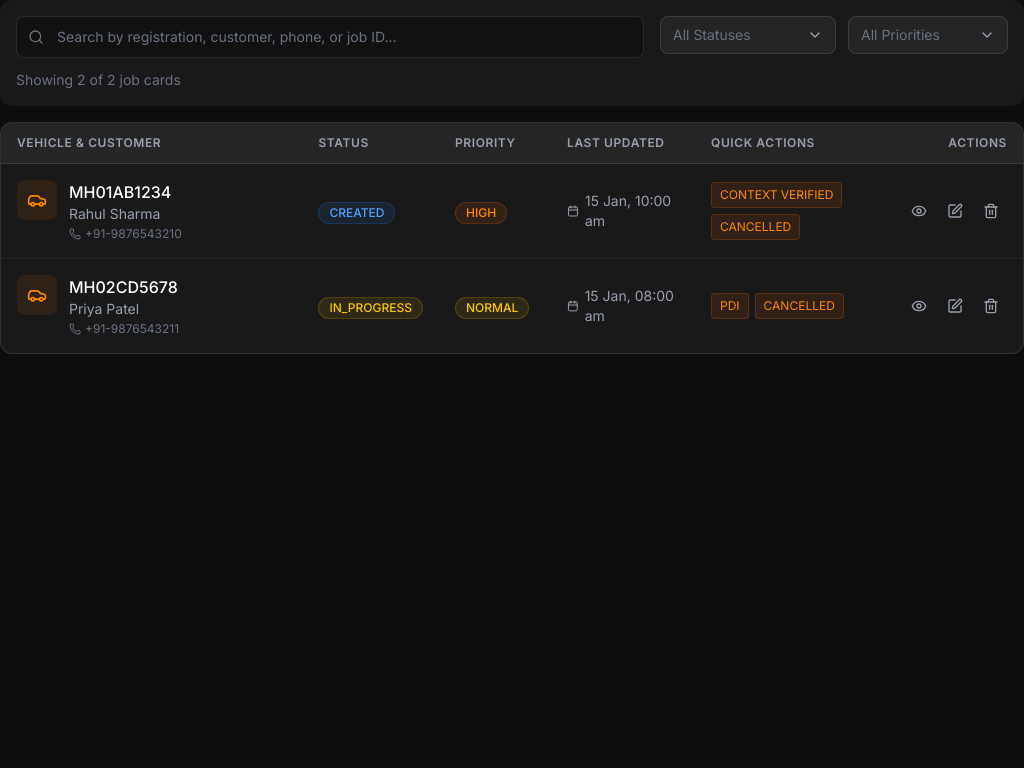
it: JobCardTable Component › calls onDelete when delete is confirmed
Later steps or results of the test are not shown.
# Click the delete icon button (first row)
Click the button titled "delete" in the row of "MH01AB1234" at (991, 211), box [975, 195, 1007, 227]
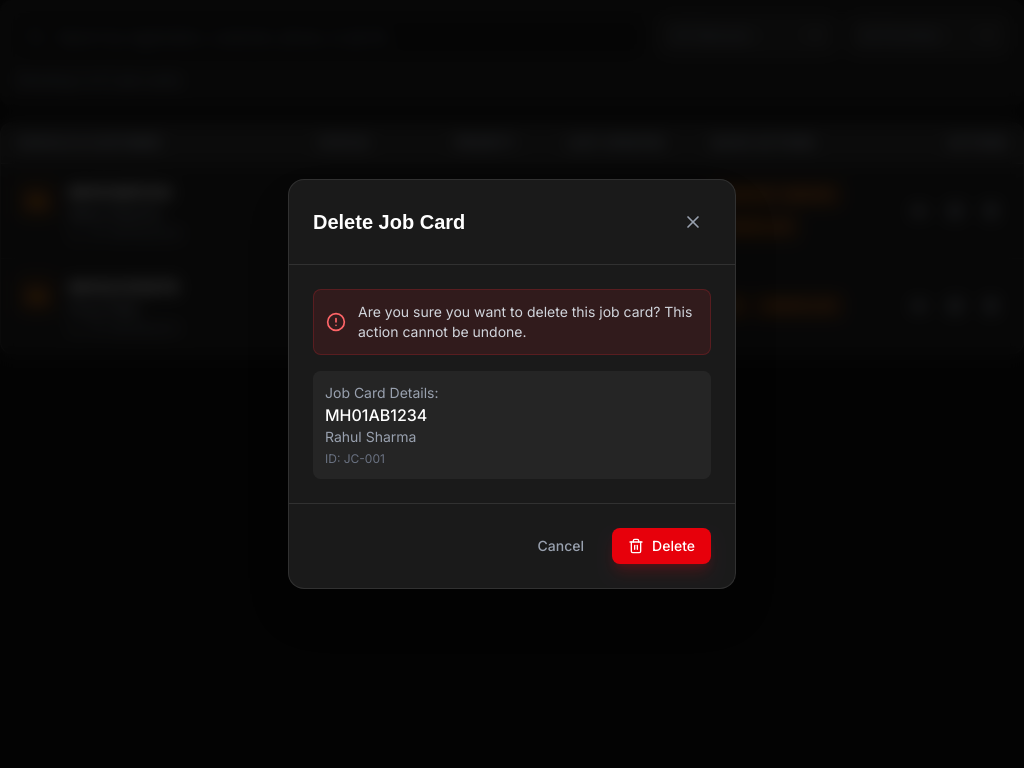
Expected: the text "Are you sure" is shown, [358, 303, 692, 340]
